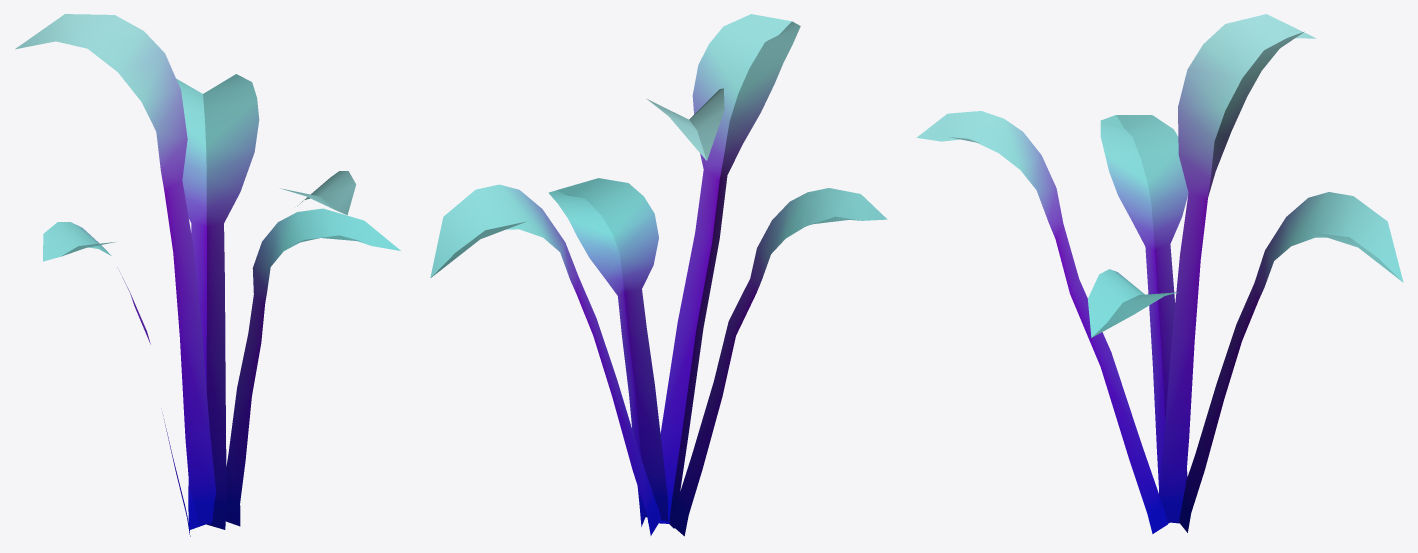
Rendered from SM_Env_Fern_04.glb.
3 renders of one model, left to right at view 1: azimuth 30°, elevation 25°; view 2: azimuth 150°, elevation 25°; view 3: azimuth 270°, elevation 25°, orthographic. The views are drawn at different scales.
Visible parts, largest first — view 1: SM_Env_Fern_04_LOD0; view 2: SM_Env_Fern_04_LOD0; view 3: SM_Env_Fern_04_LOD0.
Part boxes in pixels (box(x1,y1,x2,y2)): SM_Env_Fern_04_LOD0: box(15, 14, 400, 536); SM_Env_Fern_04_LOD0: box(430, 14, 887, 536); SM_Env_Fern_04_LOD0: box(916, 14, 1403, 533).
Size of what is drawn, in the model's own units: 2.39 by 3.22 by 3.05.
